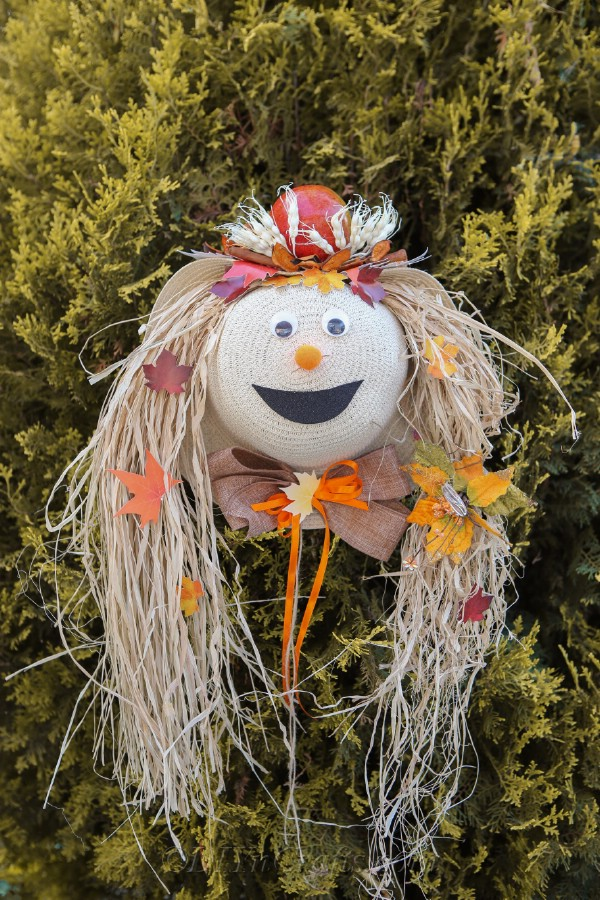person-like: (90, 176, 523, 841)
